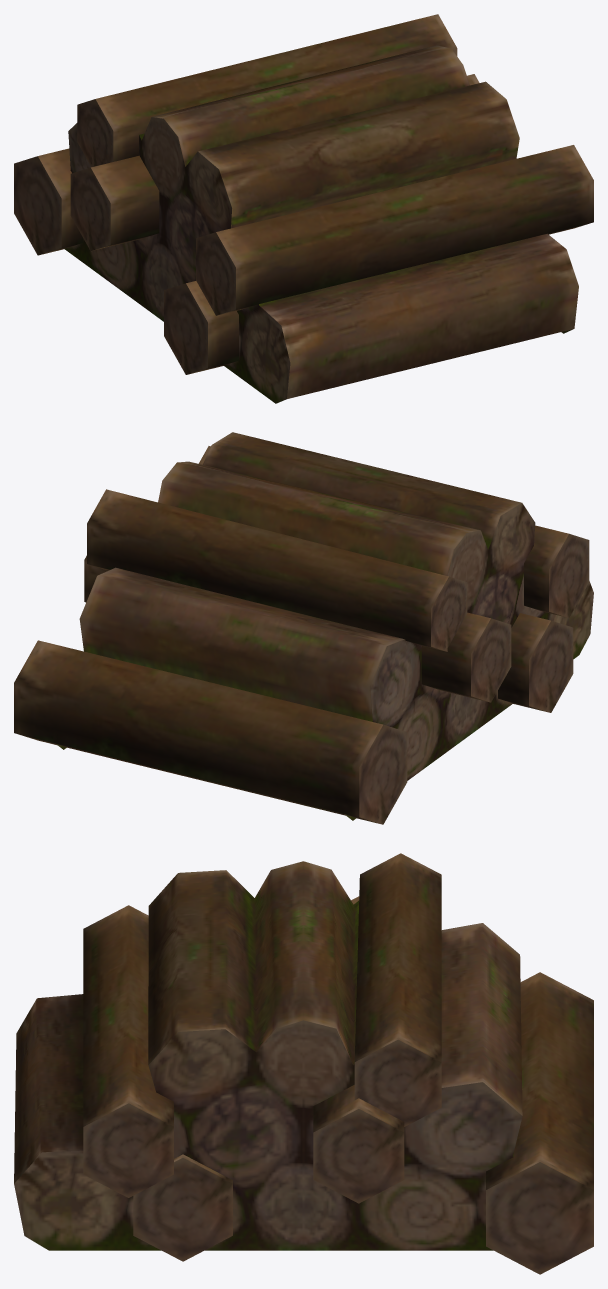
The model's file is building_yewai_mudui.FBX.
3 views of the same model, one above another, from view 1: azimuth 30°, elevation 25°; view 2: azimuth 150°, elevation 25°; view 3: azimuth 270°, elevation 25° (orthographic). The views are drawn at different scales.
Parts seen in each view (by area): view 1: building_yewai_mudui; view 2: building_yewai_mudui; view 3: building_yewai_mudui.
Part boxes in pixels (<box>): building_yewai_mudui: <box>14,14,593,403</box>; building_yewai_mudui: <box>14,432,593,824</box>; building_yewai_mudui: <box>14,853,593,1274</box>.
Size of the model in its own units: 5.05 by 2.64 by 5.82.
